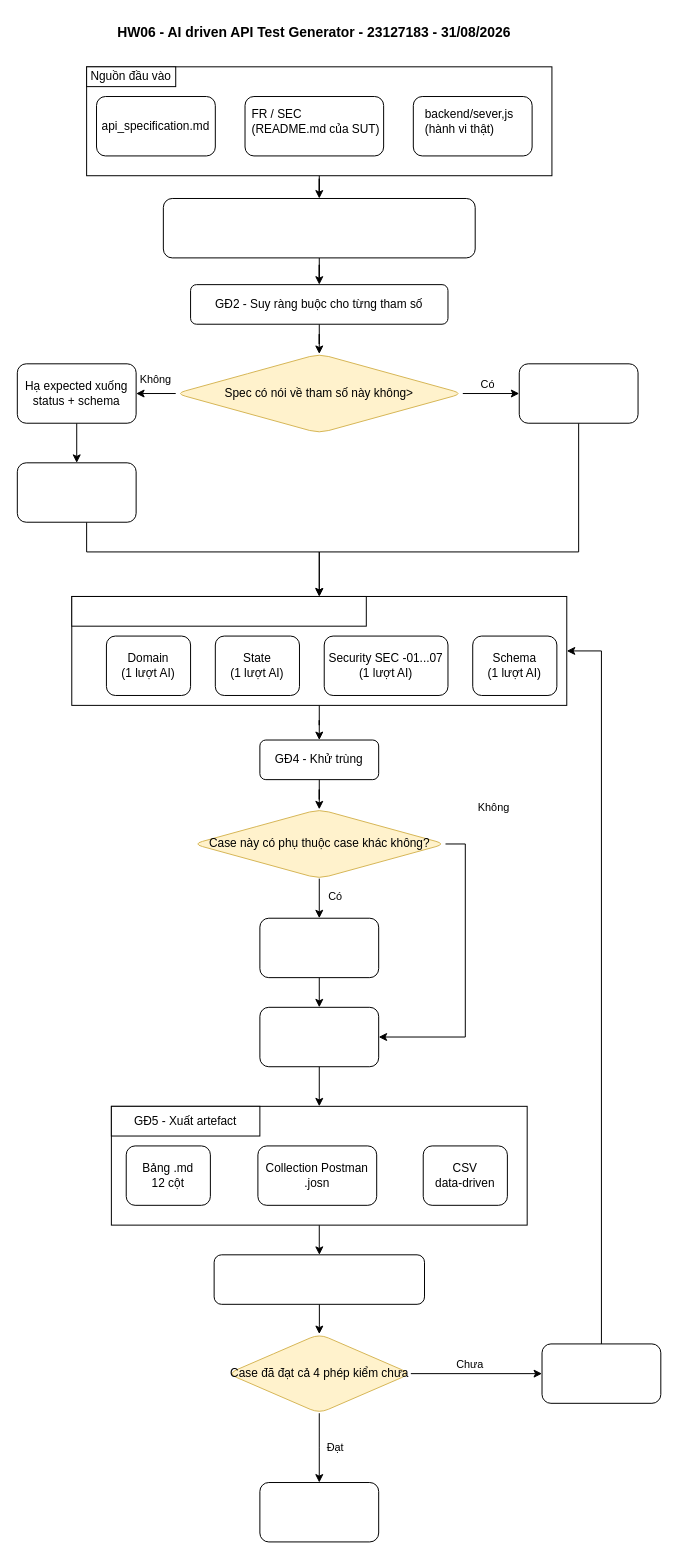
Image size: 678x1559. Some labels were removed from this diagram. Each missing label, with the centre of its shape:
Con người chạy thật và kết luận bug: (319,1512)
Ghi căn cứ = "đặc tả im lặng": (76,492)
Gán thứ tự thực thi + truyền biến môi trường: (319,947)
GĐ1 - Parse 3 nguồn (tham số - chỗ spec im lặng - hành vi thật + số dòng ): (318,228)
GĐ3 - Sinh case theo 4 nhóm (4 lượt riêng): (218,610)
GĐ6 - Cổng kiểm chất lượng (4 phép kiểm tự động): (319,1279)
Quay lại GĐ3 sinh thêm/ sửa case: (601,1373)
Suy luận từ FR/SEC, ghi rõ căn cứ: (578,393)
Xếp thứ tự thực thi: (319,1036)
